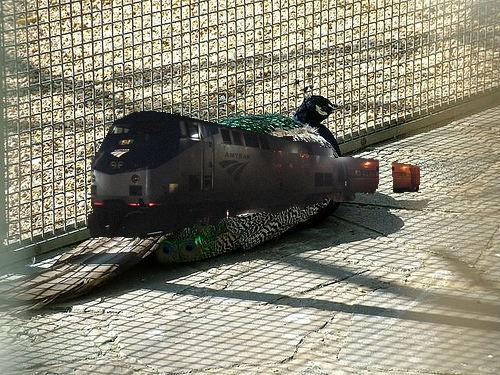tampered: (88, 112, 420, 239)
